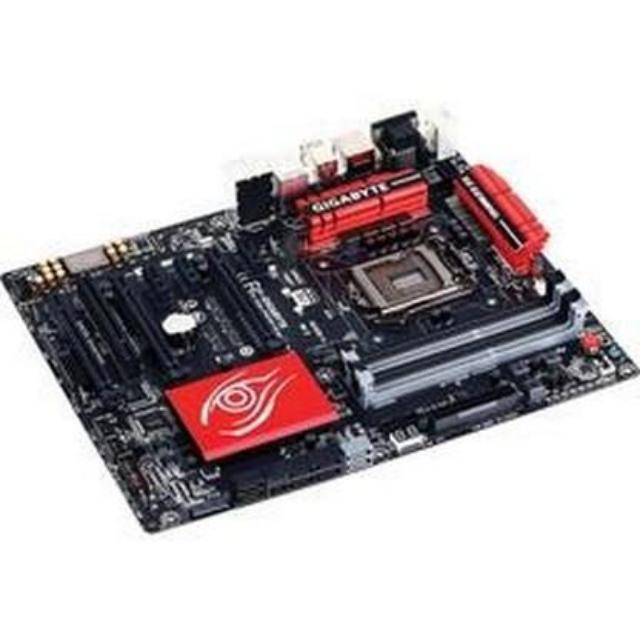Mainboard: (0, 124, 640, 538)
